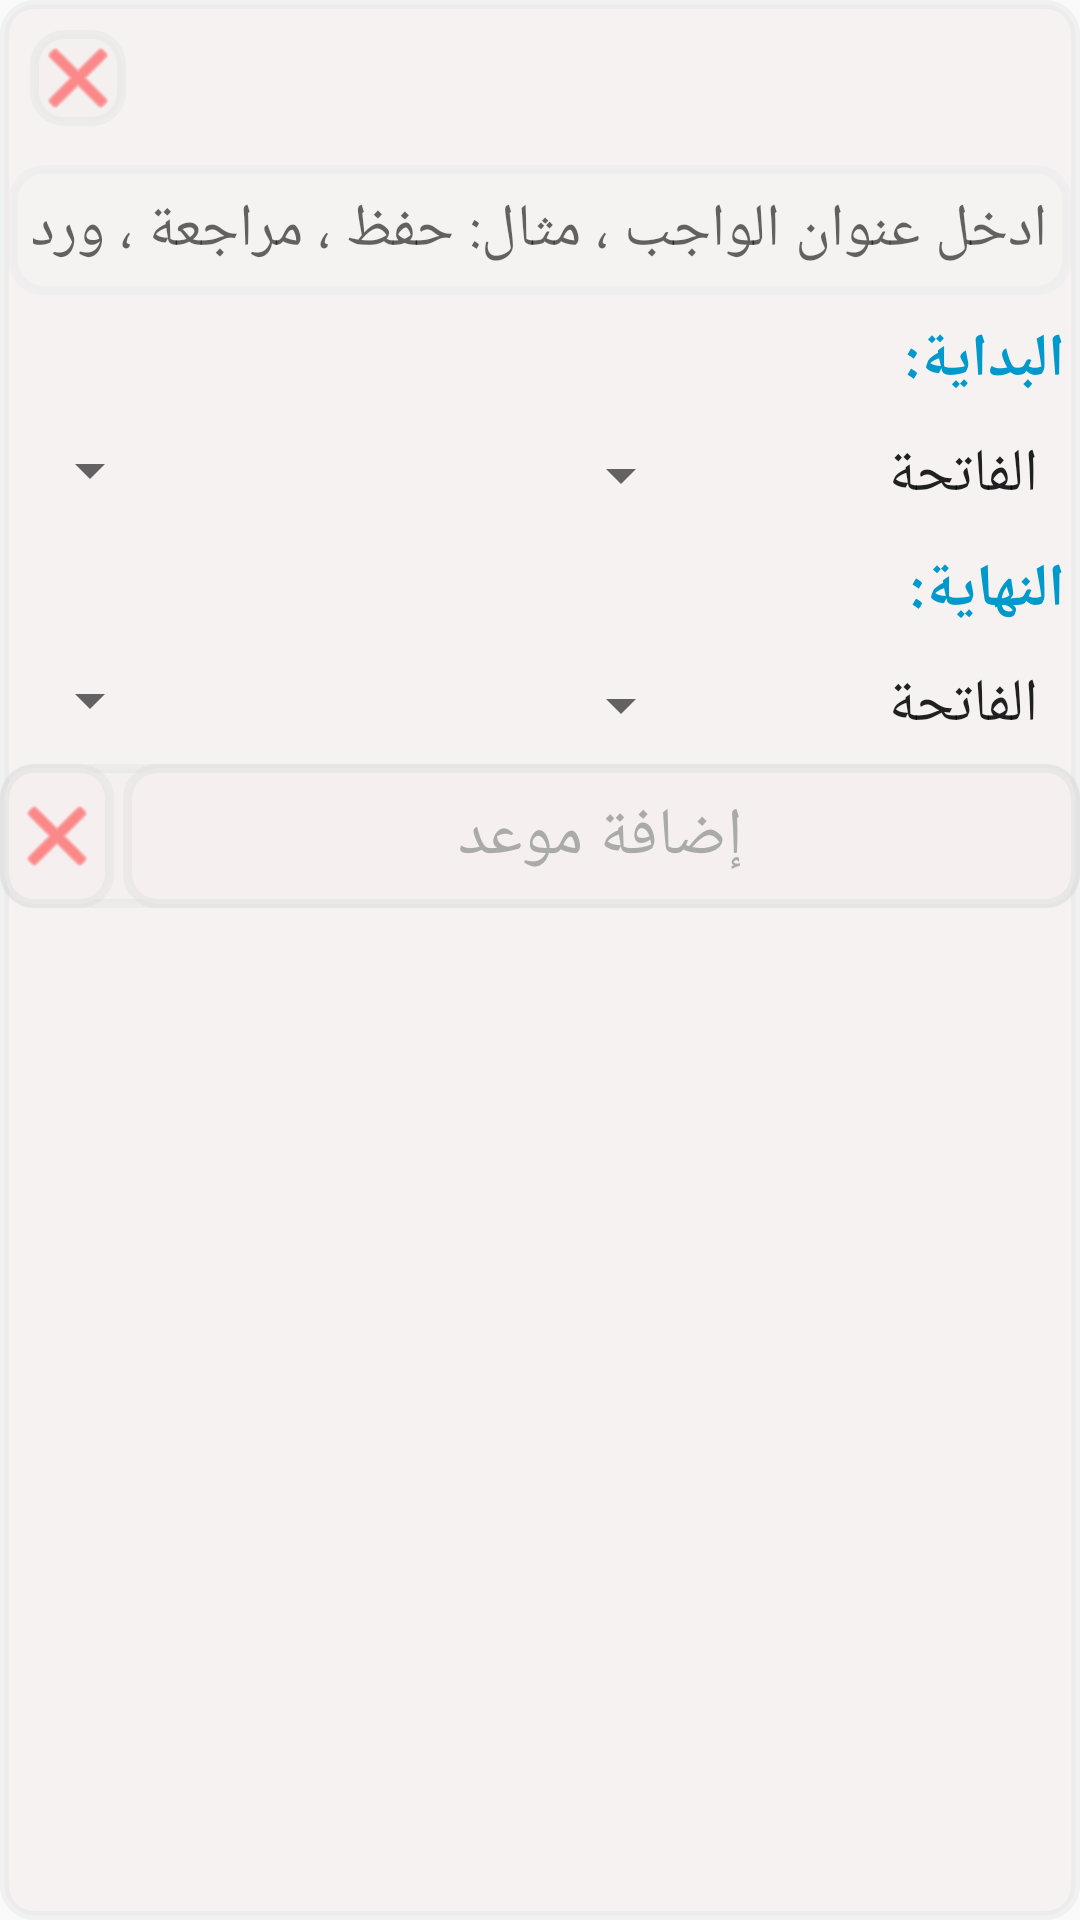

Icon bounding boxes for this 1080×1920 phone screenshot, format (x1, y1, x2, y2):
إزالة الموعد: (27, 806, 87, 866)
حذف: (48, 48, 108, 108)
